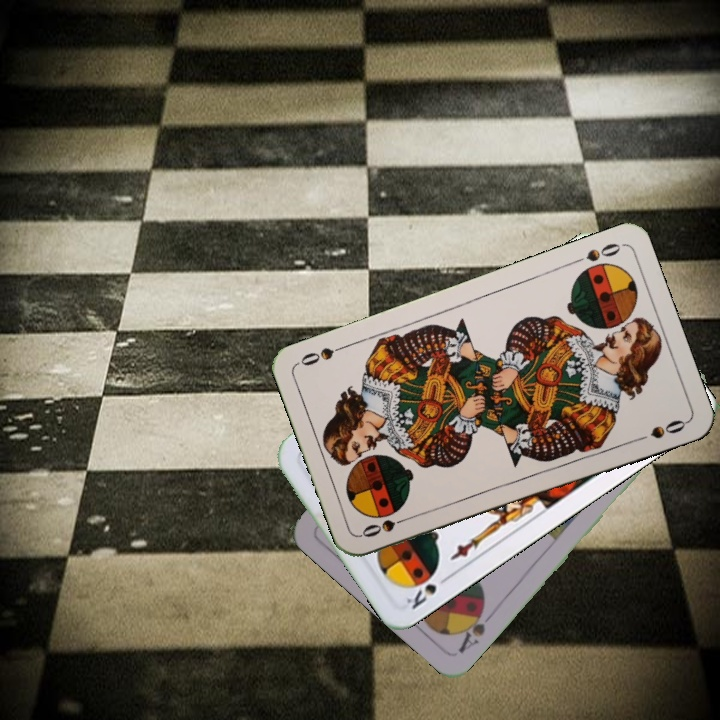SA: (453, 600, 497, 657)
SK: (402, 571, 454, 612)
SO: (357, 511, 415, 540), (567, 239, 623, 267)
